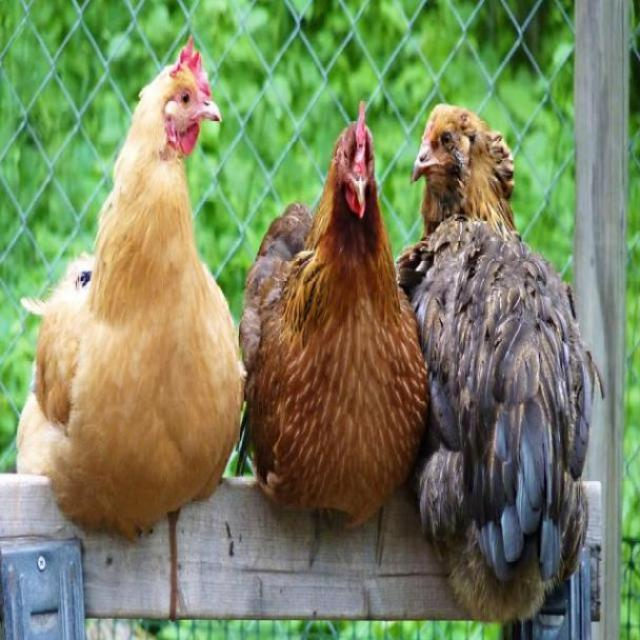Chicken: (394, 101, 609, 640), (18, 43, 242, 542), (235, 96, 431, 576)
